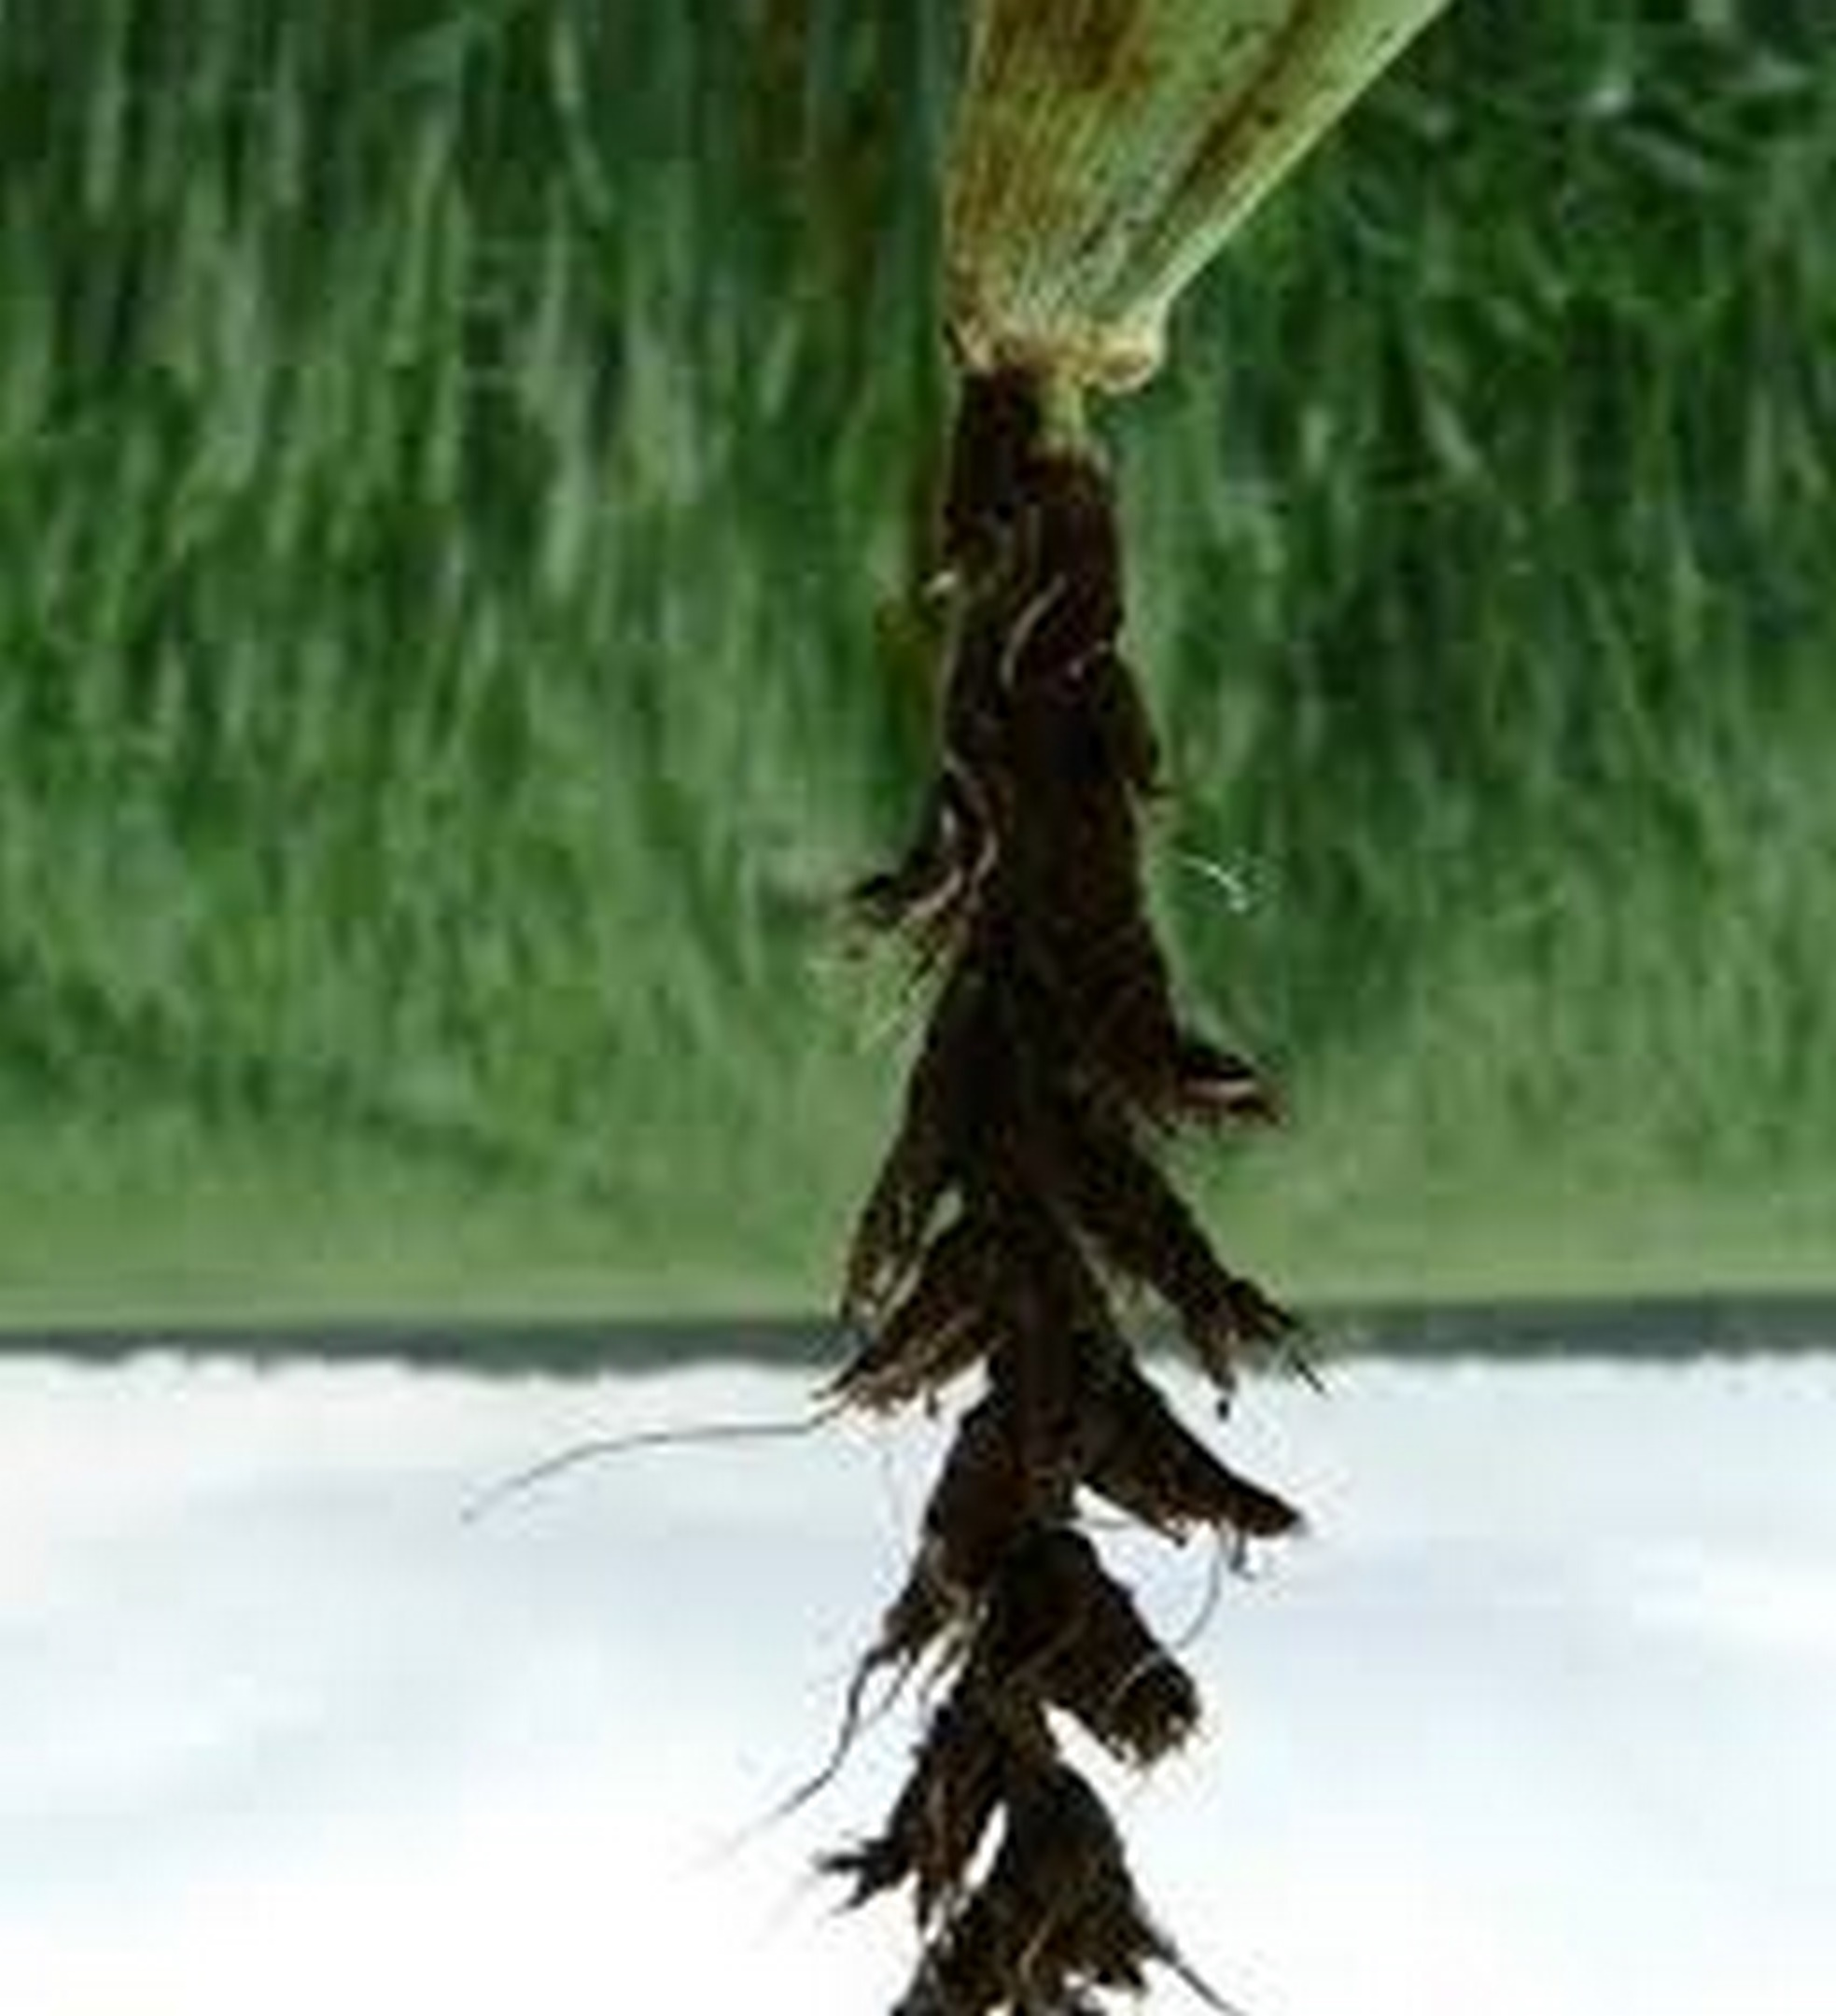Wheat Loose Smut: (824, 407, 1358, 2012)
